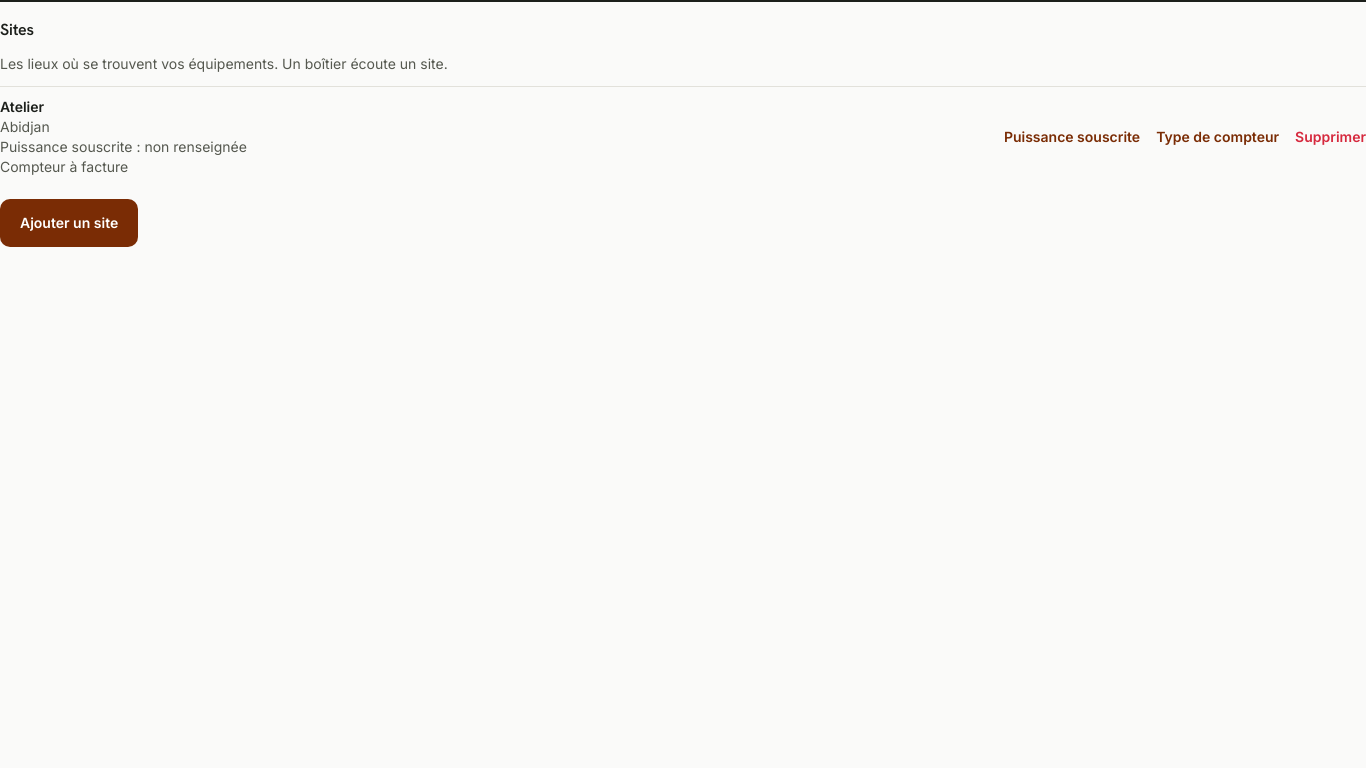
it: suppression d’un site › le modal de validation nomme le boîtier qui sera déconnecté, et lui seul
This screenshot has width=1366, height=768.
Click the button with aria-label "Supprimer le site Atelier" at coordinates (1331, 137), box [1295,127,1365,147]
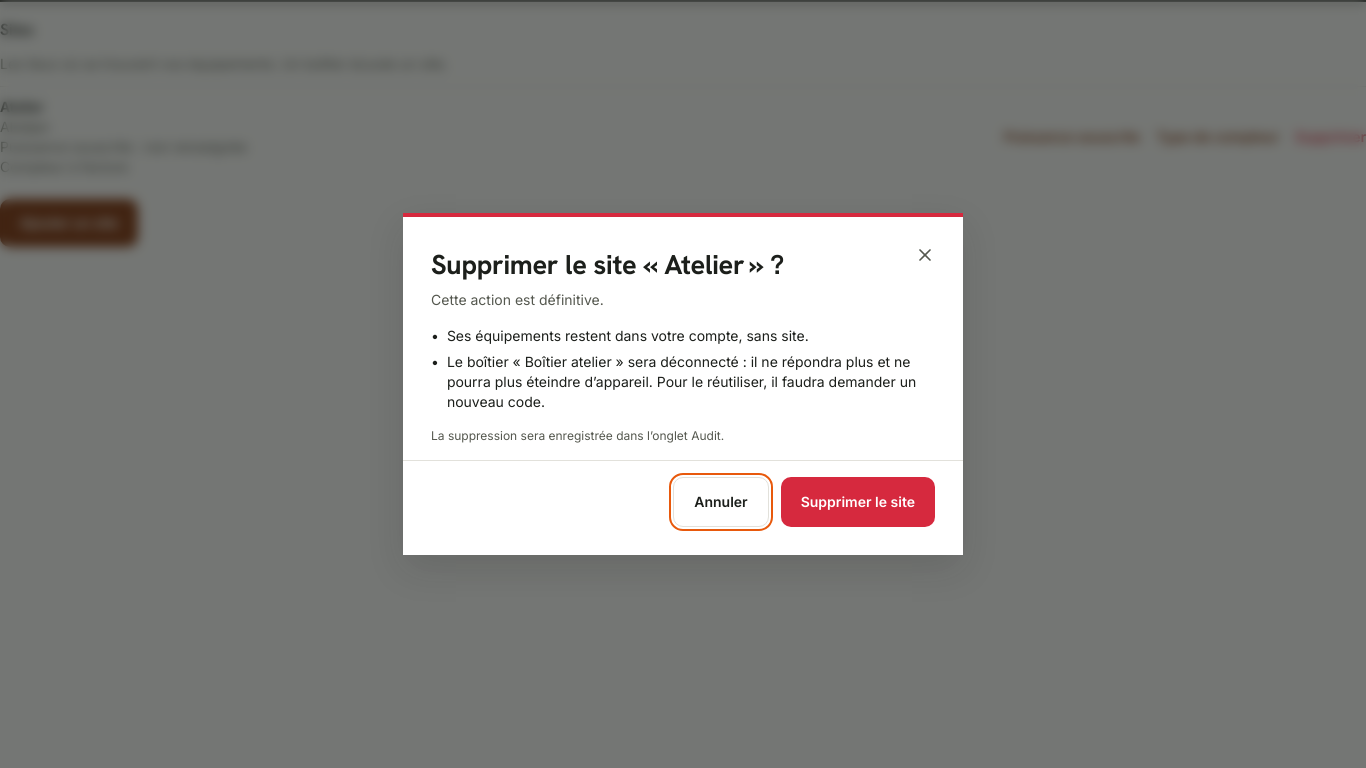
Result: the text "Le boîtier « Boîtier atelier » sera déconnecté" is shown at [447,353,916,410]
